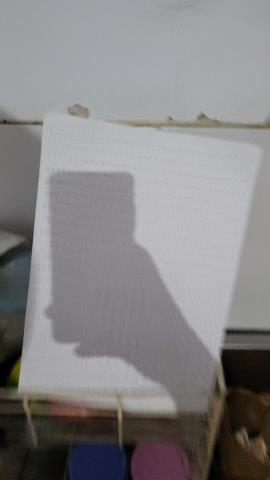kertas: (19, 111, 264, 418)
